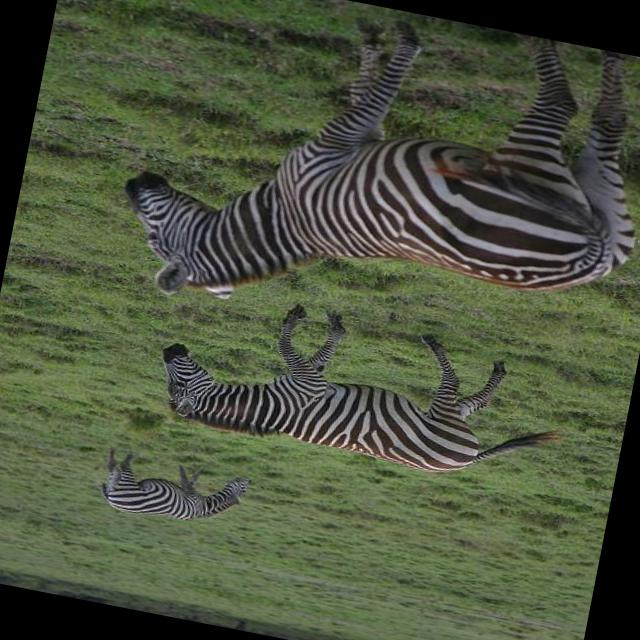zebra: (102, 0, 640, 381), (148, 279, 576, 494), (94, 444, 250, 535)
